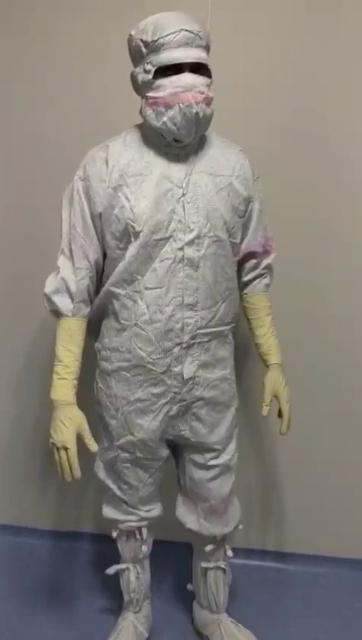boot_secured: (94, 488, 176, 640), (182, 490, 260, 640)
gloves_fitted_securely: (33, 306, 110, 488), (234, 263, 306, 447)
headgear_secured: (124, 4, 216, 148)
zip_secured: (153, 138, 199, 414)
